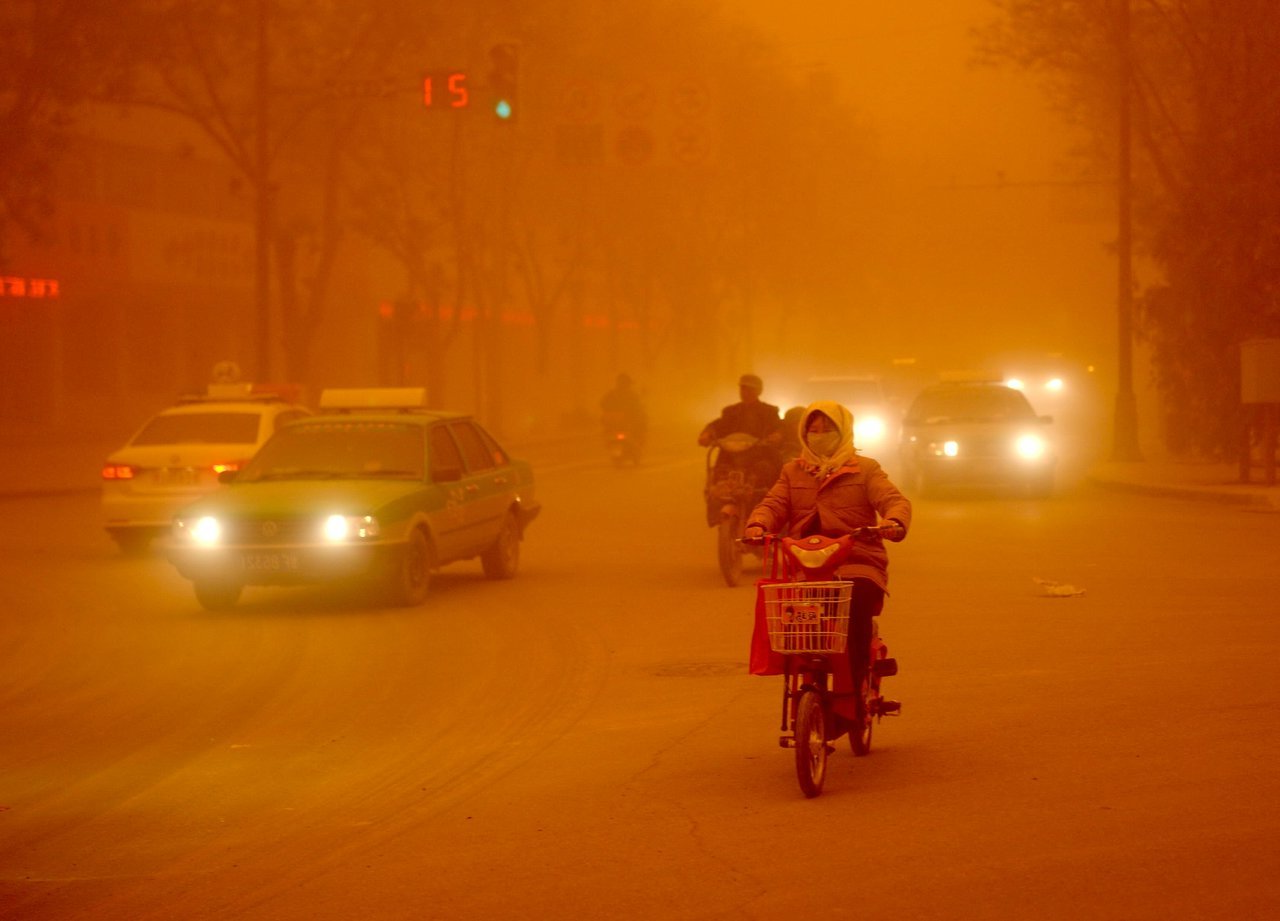bicycle: (756, 550, 897, 801)
car: (158, 407, 545, 610), (95, 398, 319, 544), (902, 378, 1060, 496), (791, 370, 892, 469), (1002, 347, 1072, 415)
motorcycle: (693, 423, 783, 579), (602, 422, 644, 473)
person: (739, 397, 911, 728), (704, 364, 778, 517), (600, 372, 647, 468)
